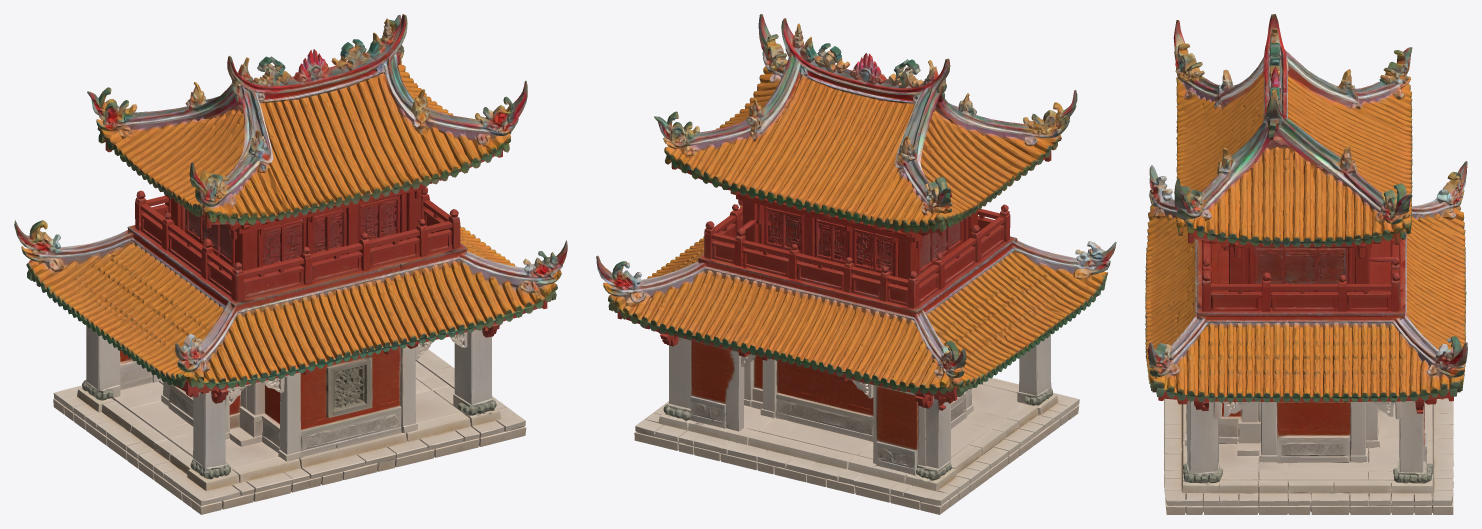
The model's file is twin-towers.glb.
3 views of the same model, side by side, from view 1: azimuth 30°, elevation 25°; view 2: azimuth 150°, elevation 25°; view 3: azimuth 270°, elevation 25° (orthographic). The views are drawn at different scales.
Parts seen in each view (by area): view 1: model; view 2: model; view 3: model.
Boxes of the visible parts, x1,y1,x2,y2 form: model: (14, 14, 567, 514); model: (596, 14, 1116, 514); model: (1145, 14, 1467, 514).
Bounding box in the file's own units: 1.9 × 1.84 × 1.39.
1 material, 1 textured.
